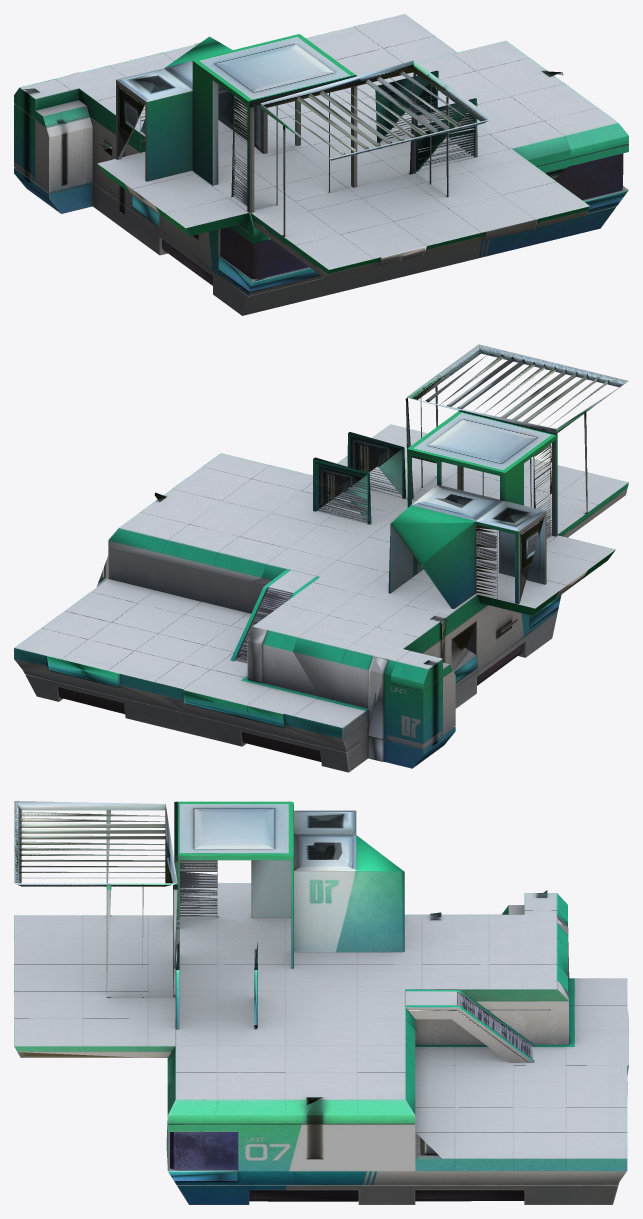
The model's file is greenandheliportlods.glb.
The picture shows the model from 3 angles, top to bottom: view 1: azimuth 30°, elevation 25°; view 2: azimuth 150°, elevation 25°; view 3: azimuth 270°, elevation 25°; orthographic projection. The views are drawn at different scales.
Parts seen in each view (by area): view 1: building green down, building green up; view 2: building green down, building green up; view 3: building green down, building green up.
Boxes of the visible parts, box(x1,y1,x2,y2) form: building green down: box(14, 14, 628, 315); building green up: box(23, 34, 563, 236); building green down: box(14, 424, 628, 772); building green up: box(154, 344, 628, 697); building green down: box(14, 883, 628, 1204); building green up: box(14, 801, 547, 1105).
Size of the model in its own units: 64.37 by 30.54 by 75.63.
3 materials, 3 textured.
